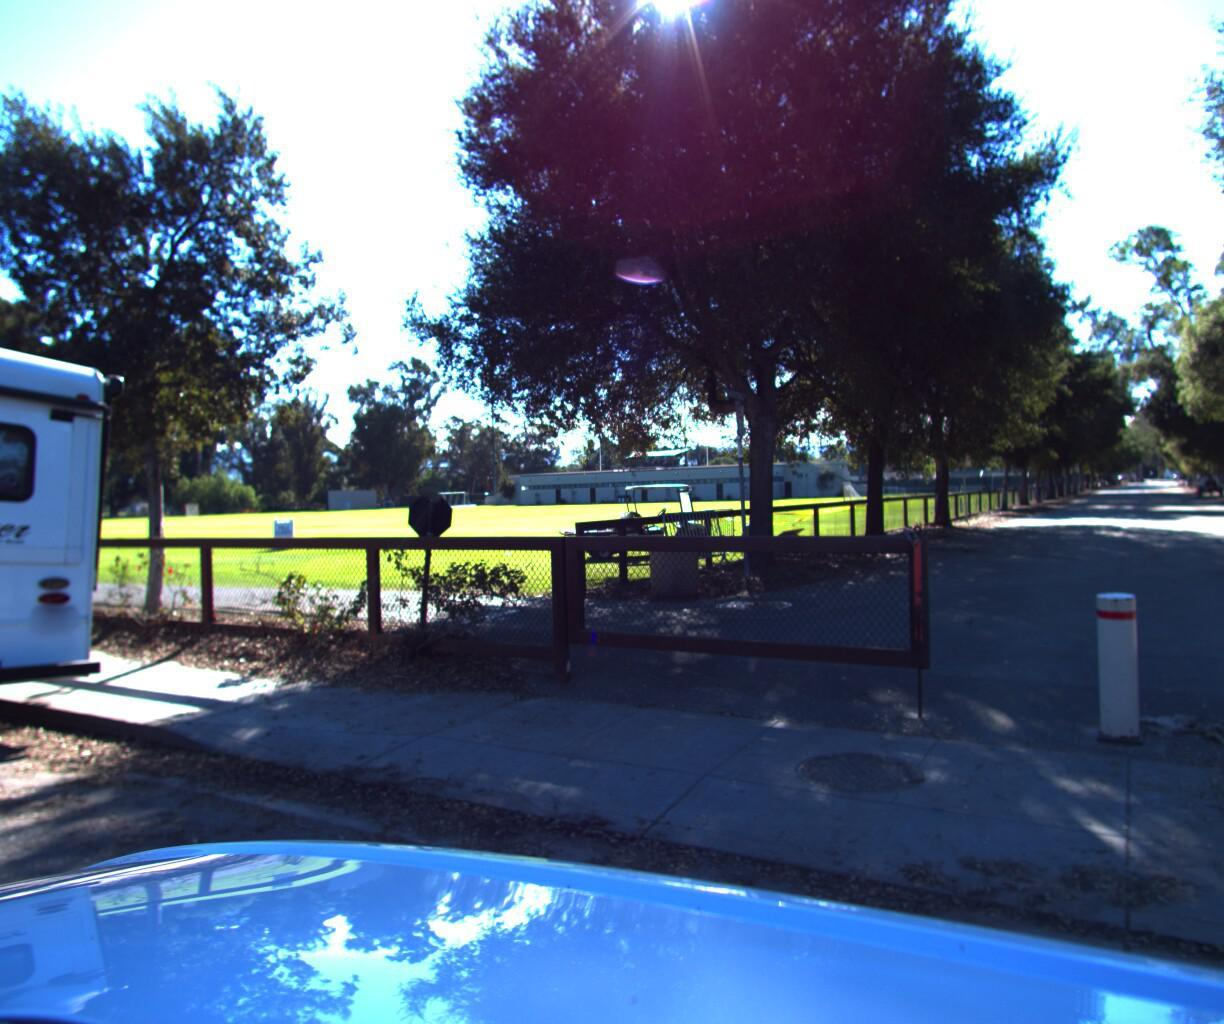other_vehicle: (0, 243, 160, 833), (551, 473, 728, 567)
